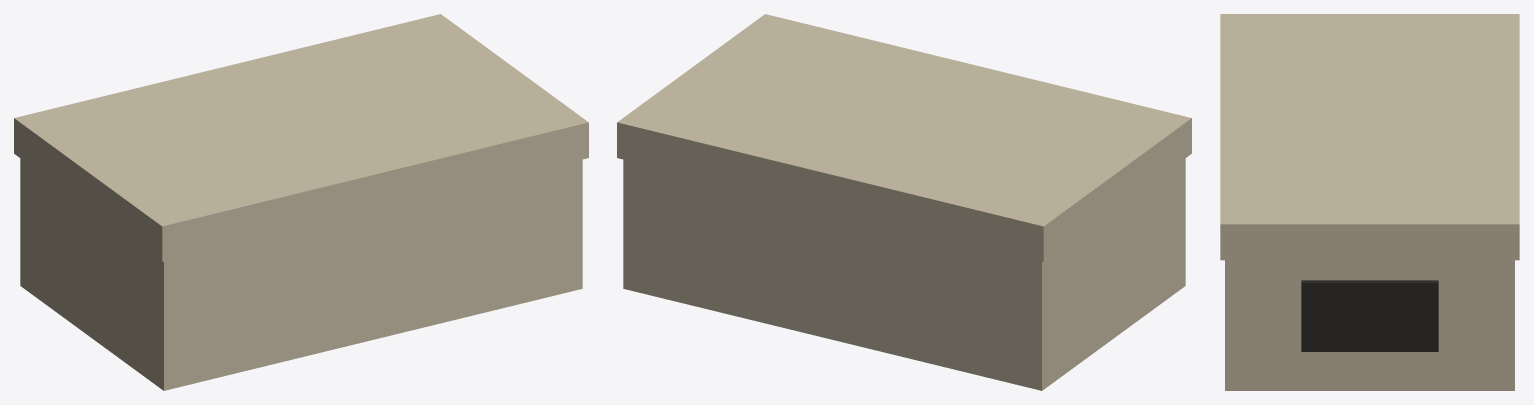
File: shoe-box.glb
3 views of the same model, side by side, from view 1: azimuth 30°, elevation 25°; view 2: azimuth 150°, elevation 25°; view 3: azimuth 270°, elevation 25° (orthographic).
Parts seen in each view (by area): view 1: paper; view 2: paper; view 3: paper, plastic-dark.
Part boxes in pixels (<box>): paper: <box>14,14,588,390</box>; paper: <box>617,14,1191,390</box>; paper: <box>1220,14,1519,390</box>; plastic-dark: <box>1301,280,1438,351</box>.
Size of the model in its own units: 0.327 by 0.122 by 0.196.
